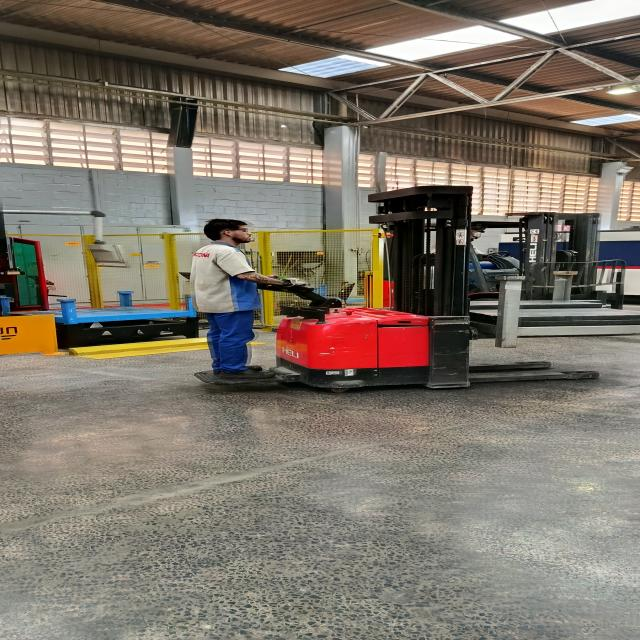oculos-epi: (223, 229, 249, 234)
